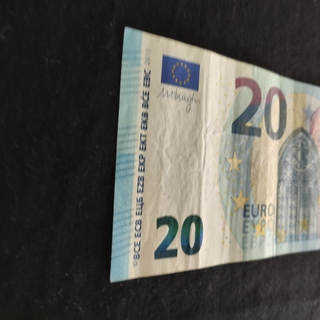20EUROFront: (110, 25, 320, 284)
